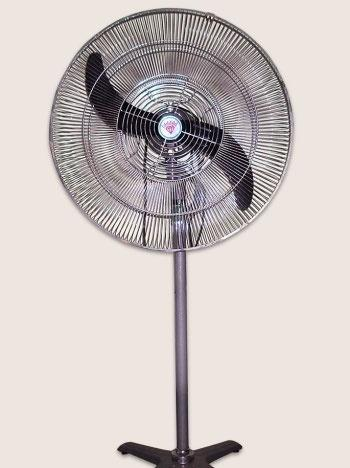fan: (44, 6, 303, 468)
